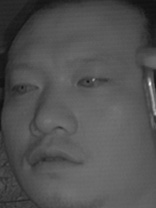eye: (75, 72, 110, 94), (10, 76, 40, 97)
mouth: (19, 140, 85, 178)
